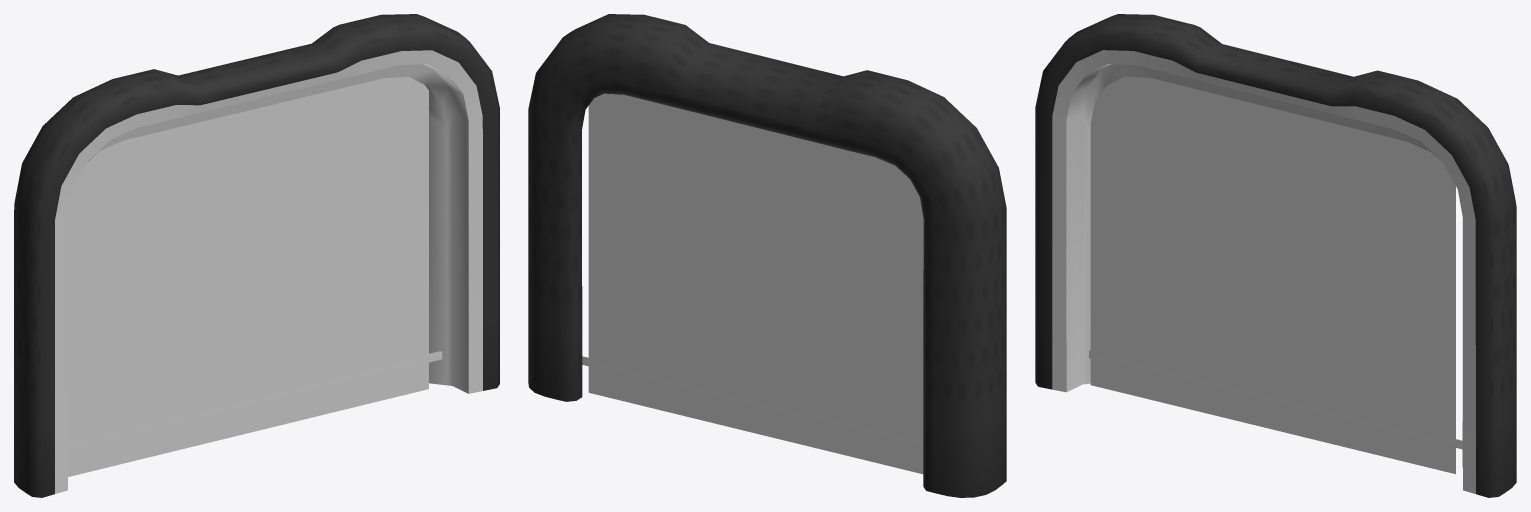
Rendered from SM_GlassRubber.fbx.
3 views of the same model, side by side, from view 1: azimuth 30°, elevation 25°; view 2: azimuth 150°, elevation 25°; view 3: azimuth 330°, elevation 25° (orthographic).
Parts seen in each view (by area): view 1: SM_GlassRubber; view 2: SM_GlassRubber; view 3: SM_GlassRubber.
Part boxes in pixels (bbox=[...]): SM_GlassRubber: bbox=[14, 14, 499, 497]; SM_GlassRubber: bbox=[528, 14, 1006, 497]; SM_GlassRubber: bbox=[1035, 14, 1516, 497].
Bounding box in the file's own units: 184 × 144 × 24.15.
